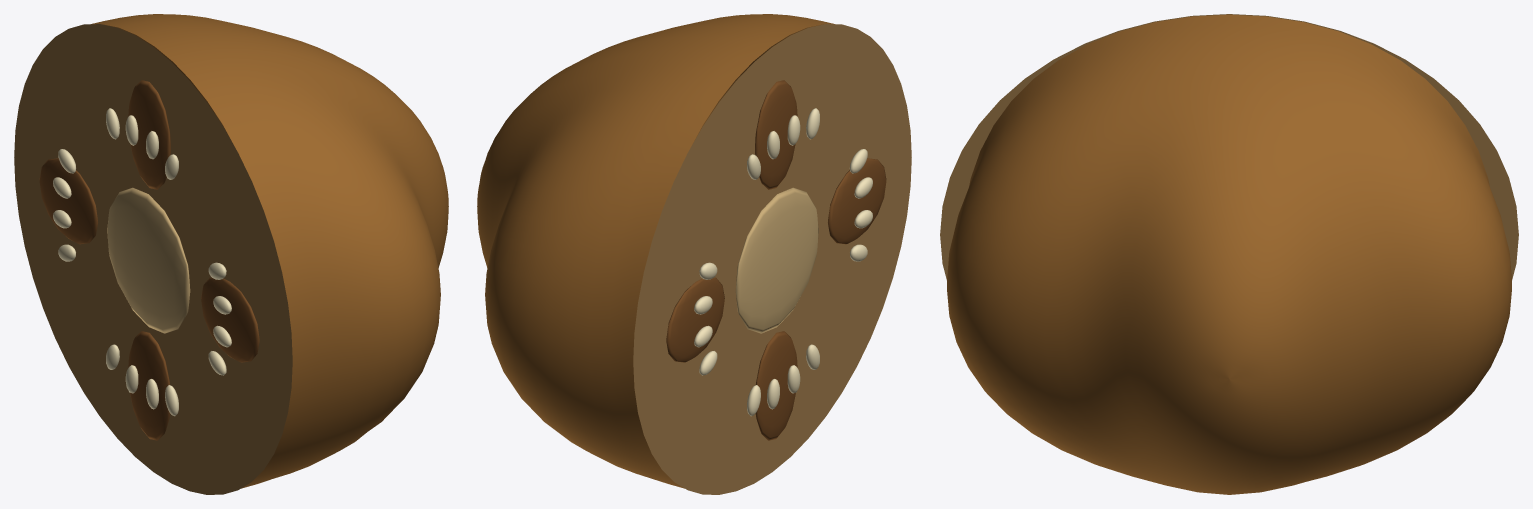
File: event_rainbow_amber_half.glb
3 views of the same model, side by side, from view 1: azimuth 30°, elevation 25°; view 2: azimuth 150°, elevation 25°; view 3: azimuth 270°, elevation 25° (orthographic). The views are drawn at different scales.
Visible parts, largest first — view 1: amber archive amber heirloom skin, amber archive amber moist cut flesh, amber archive amber seed chambers, amber archive amber pale pith, amber archive Ivory archive seeds; view 2: amber archive amber heirloom skin, amber archive amber moist cut flesh, amber archive amber seed chambers, amber archive amber pale pith, amber archive Ivory archive seeds; view 3: amber archive amber heirloom skin, amber archive amber moist cut flesh.
Boxes of the visible parts, x1,y1,x2,y2 form: amber archive amber heirloom skin: (91, 14, 448, 488); amber archive amber moist cut flesh: (14, 24, 292, 494); amber archive amber seed chambers: (39, 80, 259, 440); amber archive amber pale pith: (107, 187, 190, 333); amber archive Ivory archive seeds: (53, 108, 231, 416); amber archive amber heirloom skin: (477, 14, 834, 488); amber archive amber moist cut flesh: (633, 24, 911, 494); amber archive amber seed chambers: (666, 80, 886, 440); amber archive amber pale pith: (735, 187, 818, 333); amber archive Ivory archive seeds: (694, 108, 872, 416); amber archive amber heirloom skin: (947, 14, 1511, 494); amber archive amber moist cut flesh: (940, 14, 1518, 279).
Bounding box in the file's own units: 0.7106 × 0.96 × 1.14.
